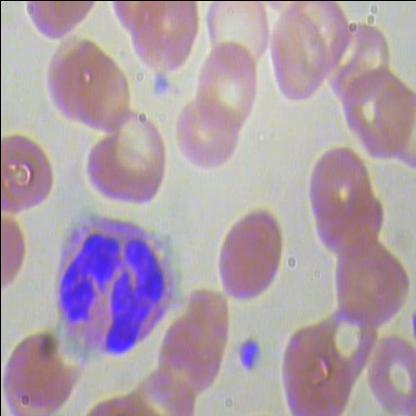Platelets: (232, 331, 260, 374), (410, 303, 415, 349)
RBC: (42, 32, 140, 141), (206, 200, 292, 302), (327, 238, 412, 327), (189, 34, 261, 136), (0, 326, 82, 415), (263, 8, 334, 104), (152, 310, 223, 406), (341, 71, 412, 167), (85, 132, 166, 210), (306, 143, 374, 233), (199, 1, 271, 86), (127, 1, 200, 76), (173, 102, 239, 180), (366, 328, 415, 415), (21, 1, 100, 43)
WBC: (47, 204, 184, 358)
